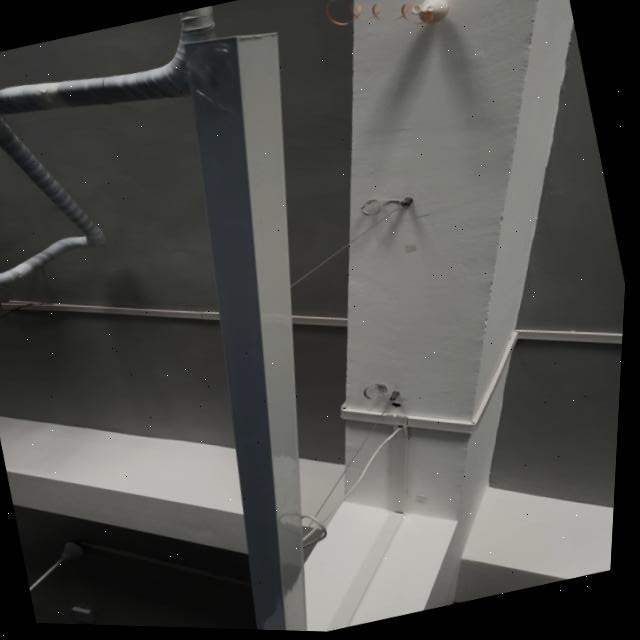fluorescent tube: (105, 7, 445, 635)
